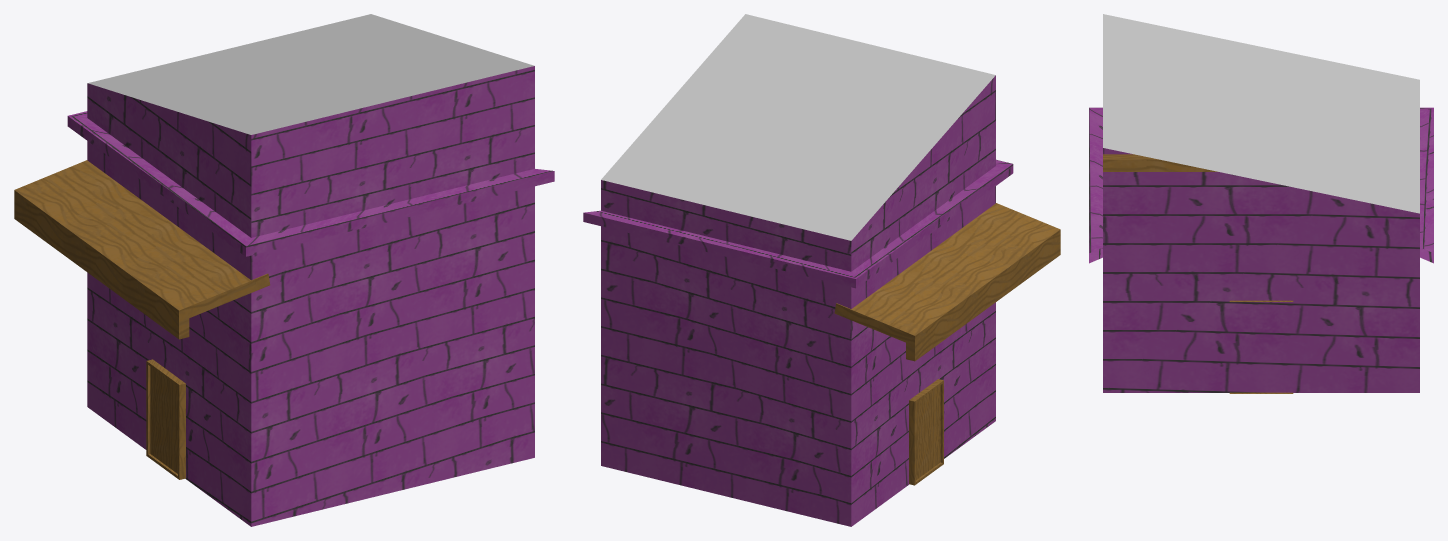
The model's file is Blocos 7.fbx.
3 renders of one model, left to right at view 1: azimuth 30°, elevation 25°; view 2: azimuth 150°, elevation 25°; view 3: azimuth 270°, elevation 25°, orthographic. The views are drawn at different scales.
Visible parts, largest first — view 1: Loja2; view 2: Loja2; view 3: Loja2.
Boxes of the visible parts, bbox=[...] form: Loja2: bbox=[14, 14, 554, 526]; Loja2: bbox=[583, 14, 1060, 526]; Loja2: bbox=[1089, 14, 1433, 393].
Size of the model in its own units: 1037 by 1053 by 868.
